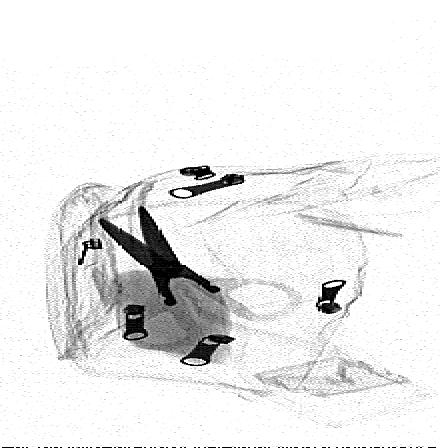Scissors: (89, 203, 317, 354)
